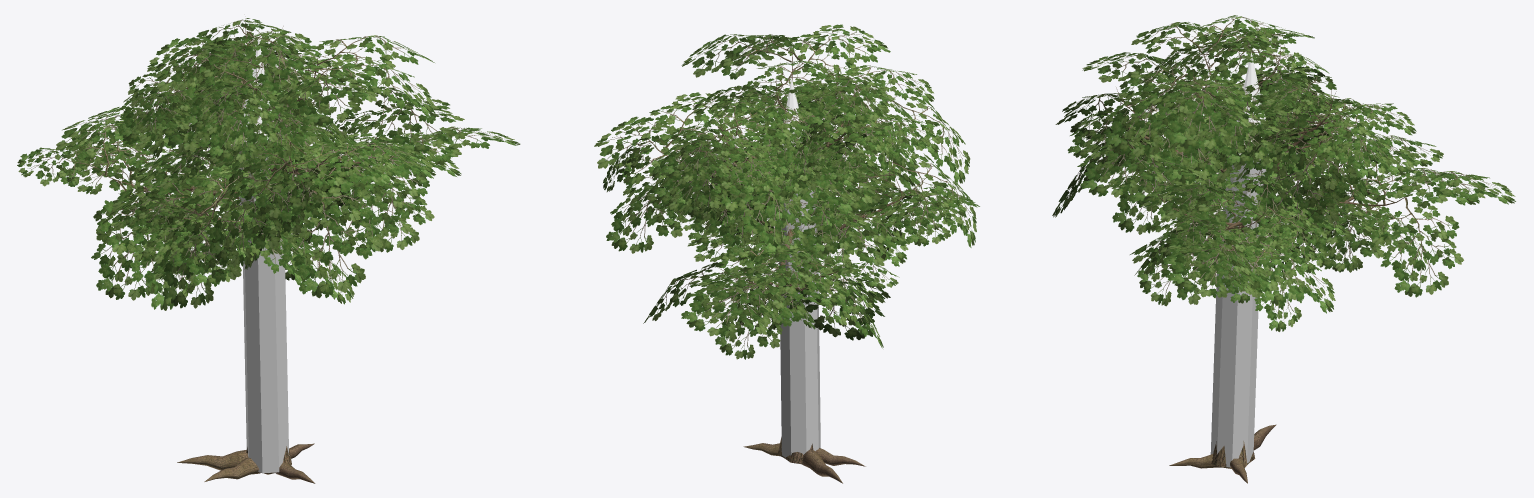
The model's file is Tree_1.dae.
3 renders of one model, left to right at view 1: azimuth 30°, elevation 25°; view 2: azimuth 150°, elevation 25°; view 3: azimuth 270°, elevation 25°, orthographic. The views are drawn at different scales.
Visible parts, largest first — view 1: leaf19d, col_1, branches4d; view 2: leaf19d, col_1, branches4d; view 3: leaf19d, col_1, branches4d.
Boxes of the visible parts, x1=… form: leaf19d: x1=17, y1=18, x2=520, y2=310; col_1: x1=238, y1=39, x2=289, y2=473; branches4d: x1=89, y1=18, x2=393, y2=483; leaf19d: x1=594, y1=24, x2=979, y2=359; col_1: x1=778, y1=78, x2=820, y2=457; branches4d: x1=656, y1=45, x2=926, y2=483; leaf19d: x1=1052, y1=15, x2=1515, y2=331; col_1: x1=1210, y1=52, x2=1268, y2=467; branches4d: x1=1110, y1=27, x2=1410, y2=483.
Size of the model in its own units: 10.88 by 10.75 by 10.53.
Materials: 2 (2 with a texture image).
